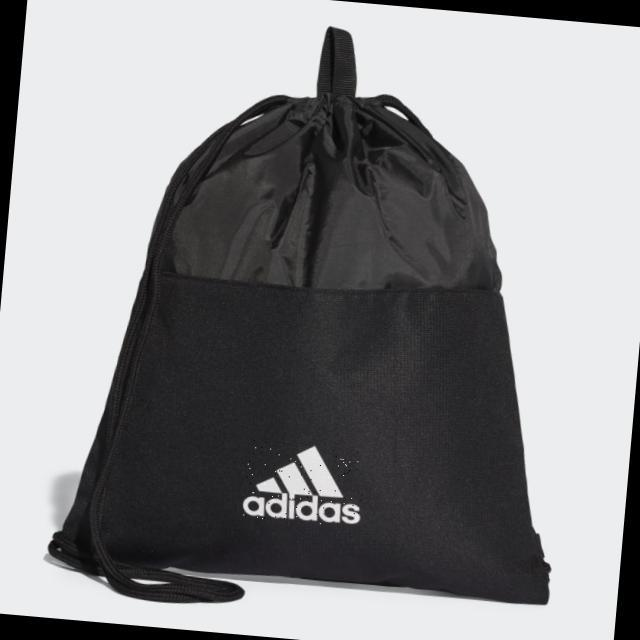Adidas: (241, 439, 366, 527)
